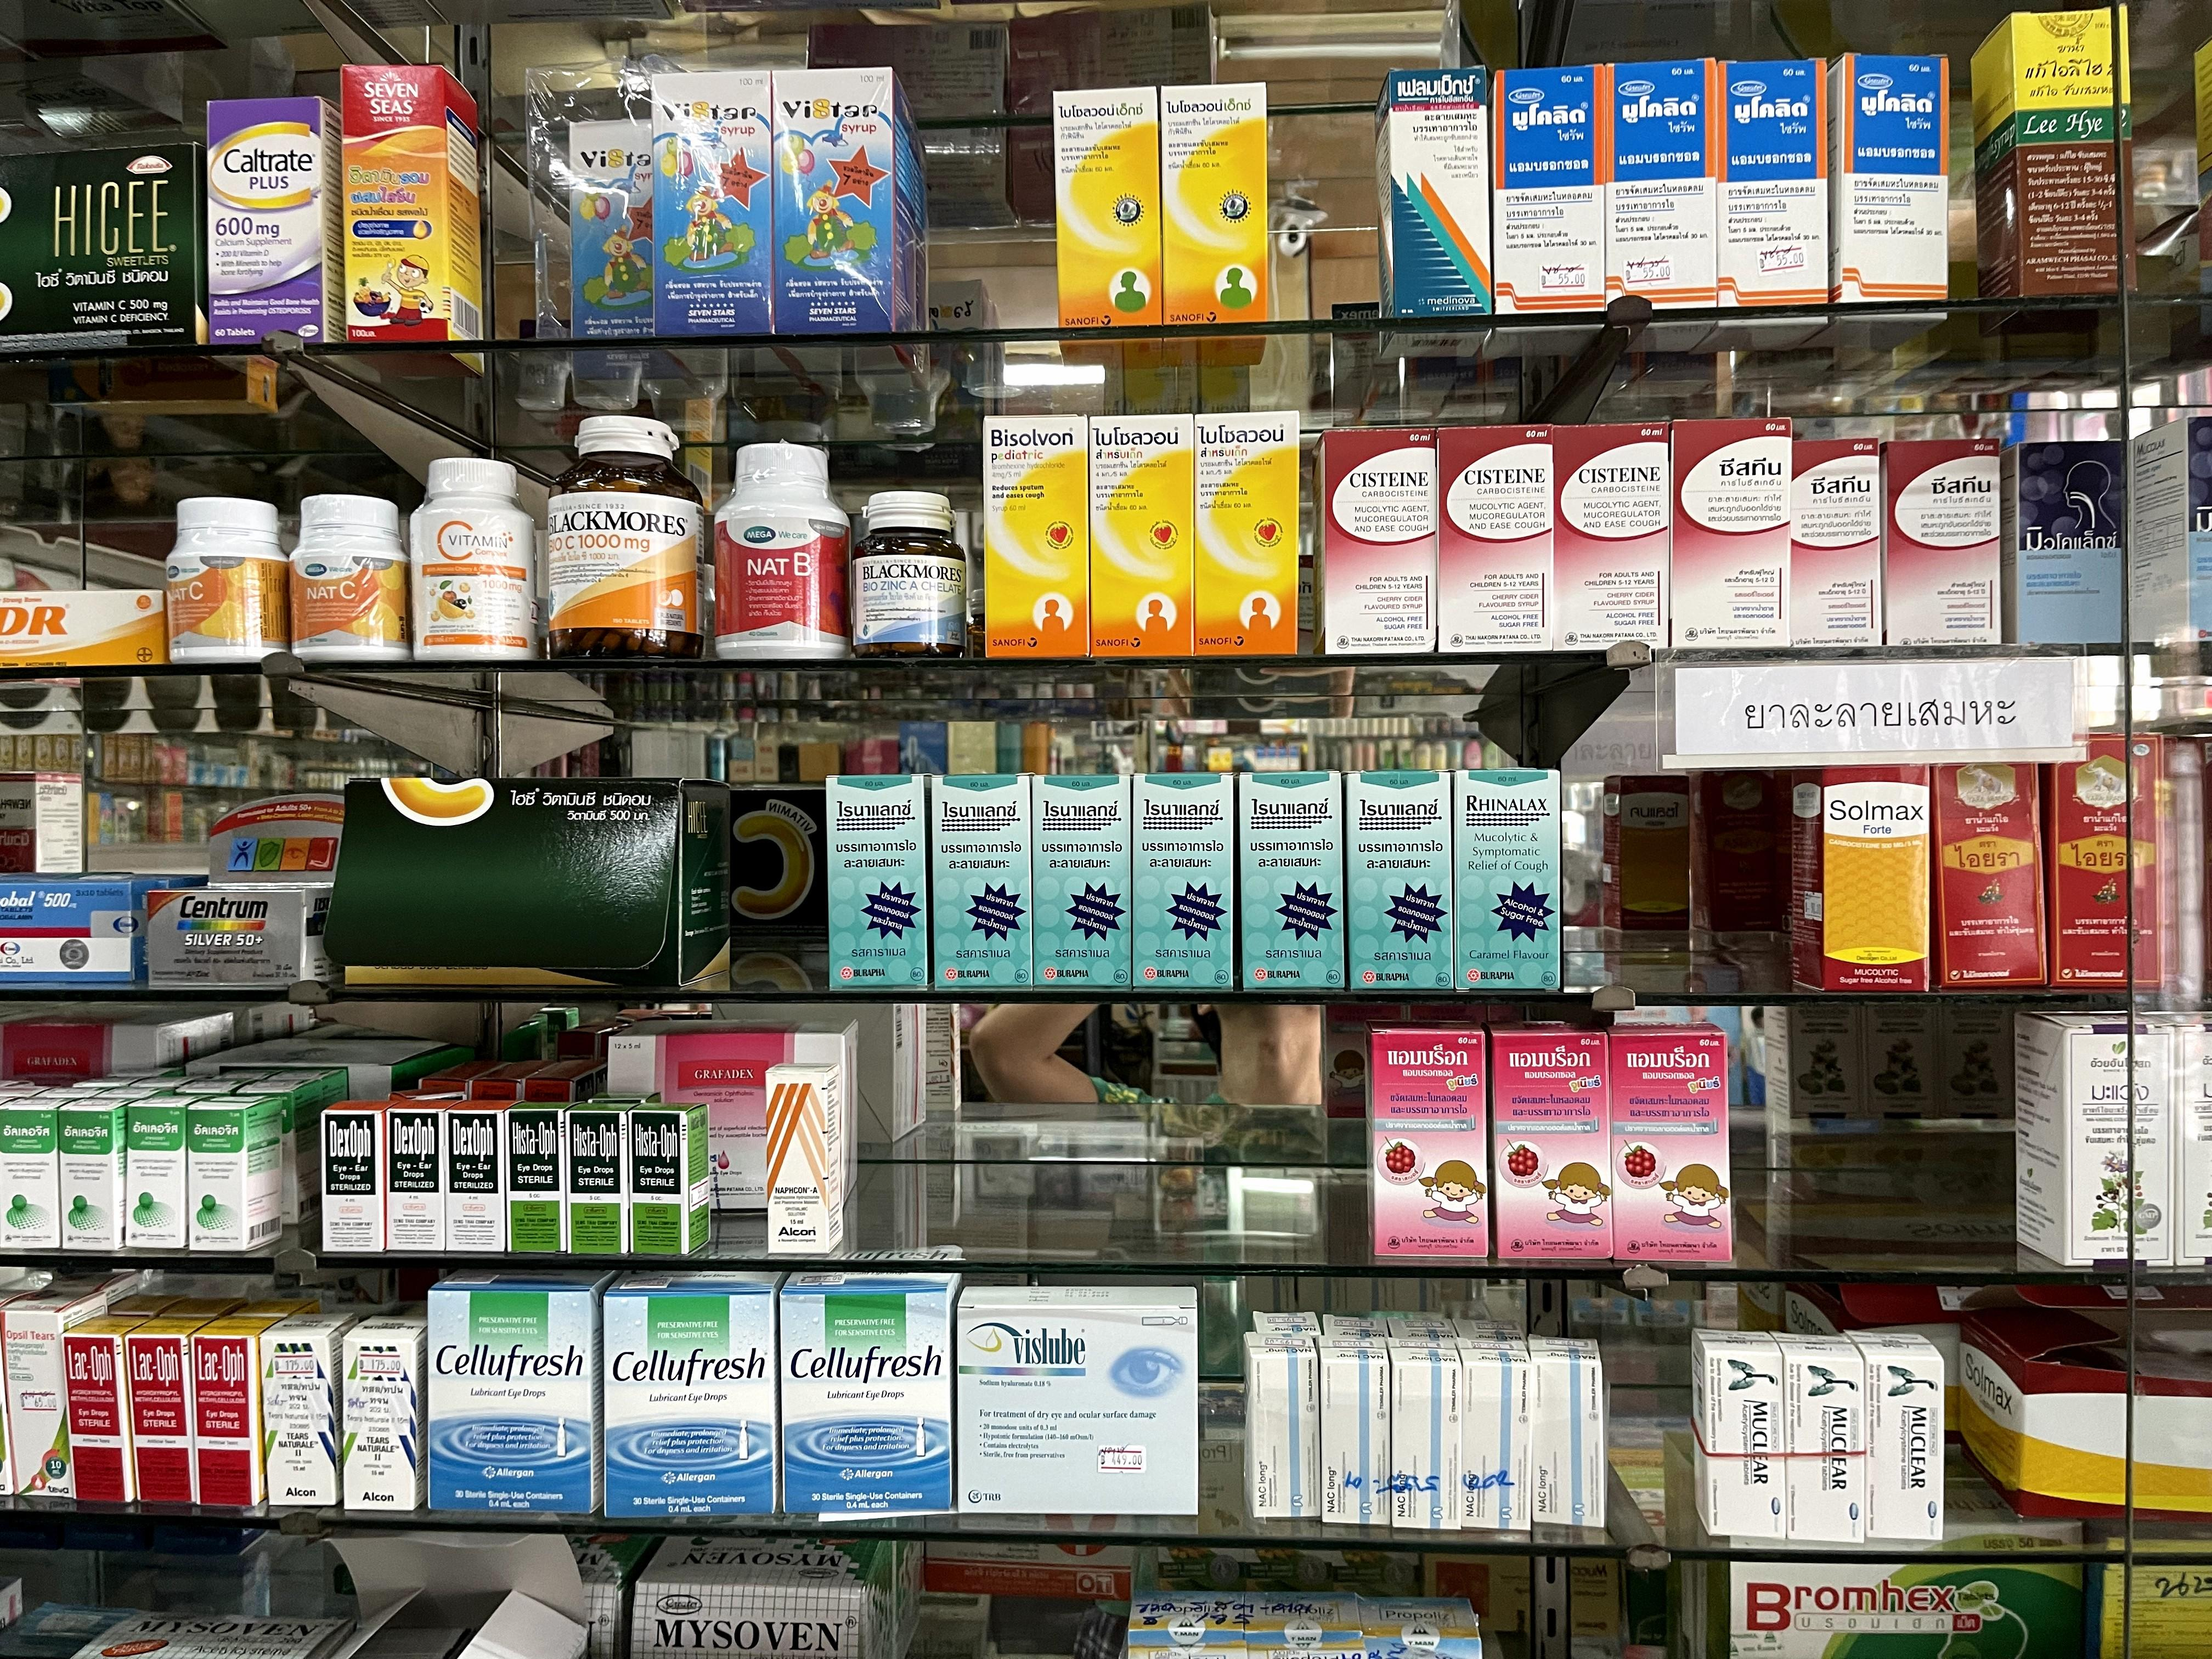Allergis: (190, 1096, 284, 1253), (235, 1080, 326, 1225), (125, 1096, 209, 1248), (0, 1098, 73, 1249), (61, 1100, 134, 1249), (265, 1070, 348, 1108), (110, 1066, 186, 1082), (94, 1084, 176, 1098)
Blackmores: (549, 416, 705, 664)
Cisteine: (1318, 425, 1440, 657), (1435, 423, 1559, 650), (1670, 418, 1789, 647), (1555, 420, 1670, 647), (1878, 441, 1996, 643), (1789, 436, 1885, 647)
Iyara: (1933, 727, 2052, 988), (2059, 730, 2168, 995)
Lac-Oph_Red: (190, 1317, 263, 1504), (64, 1317, 134, 1499), (131, 1317, 195, 1499)
Ma-Vaeng_Syrup: (2022, 1007, 2175, 1269)
Mucolax: (2010, 439, 2130, 648), (2132, 420, 2212, 640)
Nac-Long: (1527, 1333, 1606, 1532), (1388, 1337, 1463, 1530), (1460, 1337, 1533, 1532), (1247, 1333, 1322, 1518), (1318, 1338, 1390, 1520)
NatC: (164, 497, 291, 664), (291, 495, 413, 660)
Rhinalax: (1453, 767, 1562, 988), (1345, 770, 1456, 988), (1238, 770, 1345, 990), (1132, 772, 1238, 990), (827, 775, 935, 986), (930, 775, 1035, 988), (1031, 775, 1132, 986)
Solmax: (1796, 734, 1933, 986)
